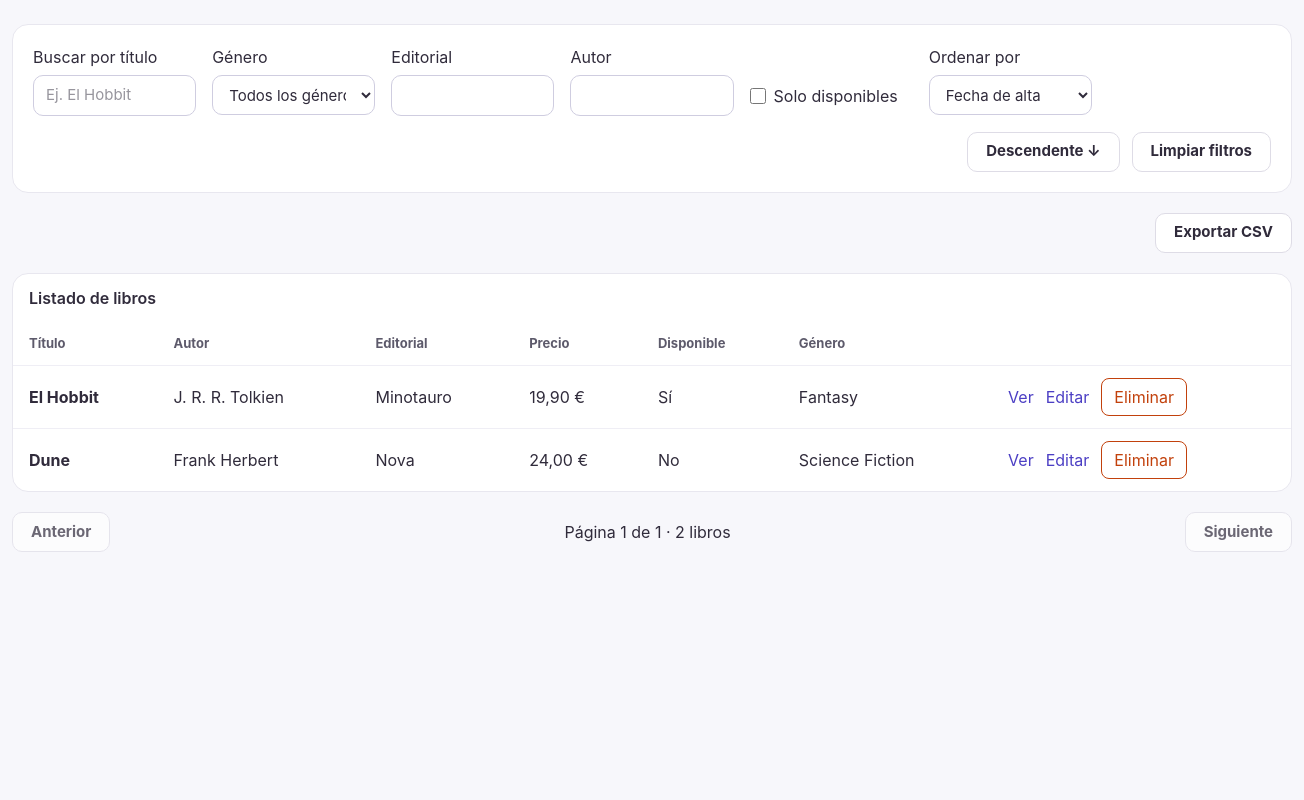
Scenario: BookList › disables the delete action of a book while its deletion is pending
The width and height of the screenshot is (1304, 800).
What coordinates should you click on to do the following:
click the button with aria-label "Eliminar Dune"
I would click on:
 (1144, 460)
Its box is [1101,441,1187,479].
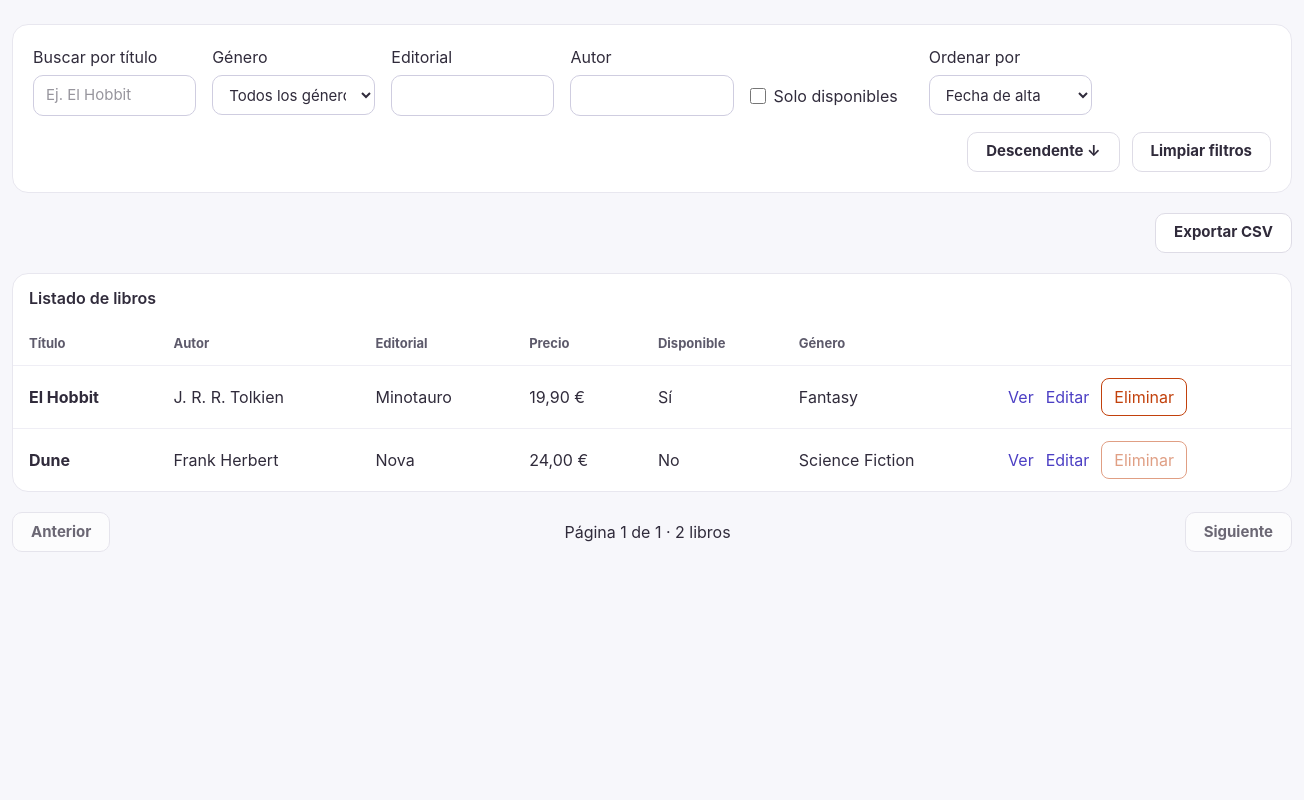
Expected: the button with aria-label "Eliminar El Hobbit" is enabled, [1101,378,1187,416]
Expected: the button with aria-label "Eliminar Dune" is disabled, [1101,441,1187,479]
